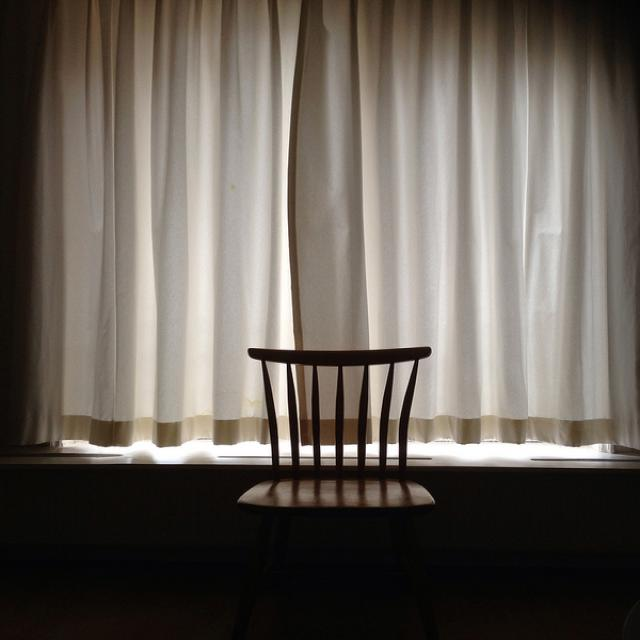chair: (207, 324, 470, 585)
